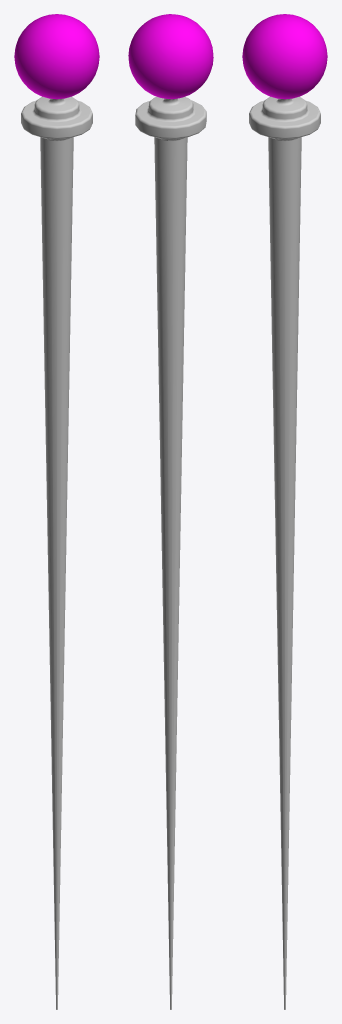
The model's file is purple.glb.
The picture shows the model from 3 angles, left to right: view 1: azimuth 90°, elevation 25°; view 2: azimuth 210°, elevation 25°; view 3: azimuth 270°, elevation 25°; orthographic projection.
Visible parts, largest first — view 1: Purple.001; view 2: Purple.001; view 3: Purple.001.
Part boxes in pixels (x1=…): Purple.001: x1=14, y1=14, x2=99, y2=1009; Purple.001: x1=128, y1=14, x2=213, y2=1009; Purple.001: x1=242, y1=14, x2=327, y2=1009.
Bounding box in the file's own units: 0.593 × 7.6 × 0.593.
